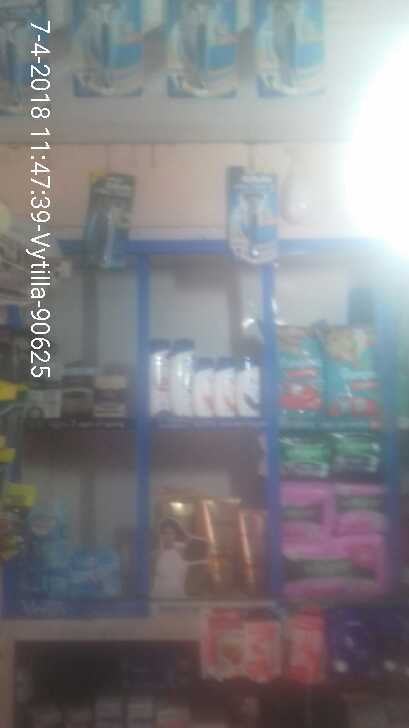gillete: (161, 1, 234, 100), (75, 1, 145, 99), (264, 1, 326, 94), (225, 164, 276, 262), (81, 171, 133, 267), (1, 18, 48, 115)
venus: (19, 499, 69, 596), (70, 548, 120, 596)
